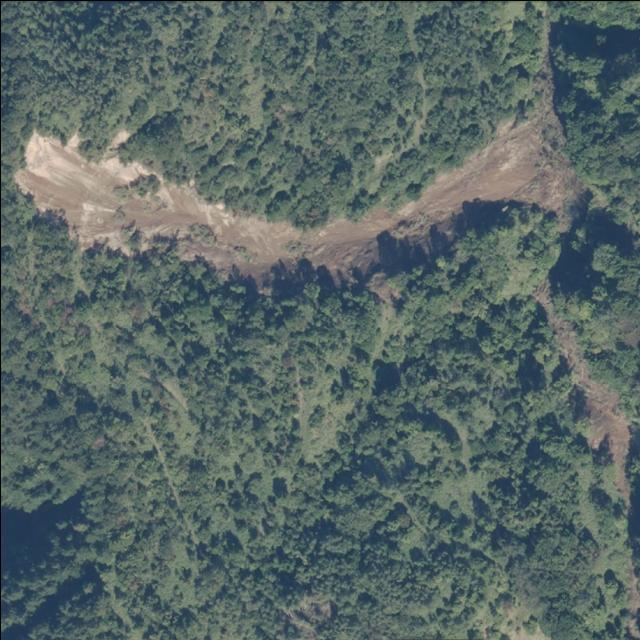landslide: (13, 75, 586, 279)
